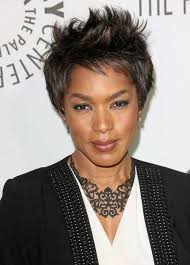black_female: (54, 50, 153, 168)
